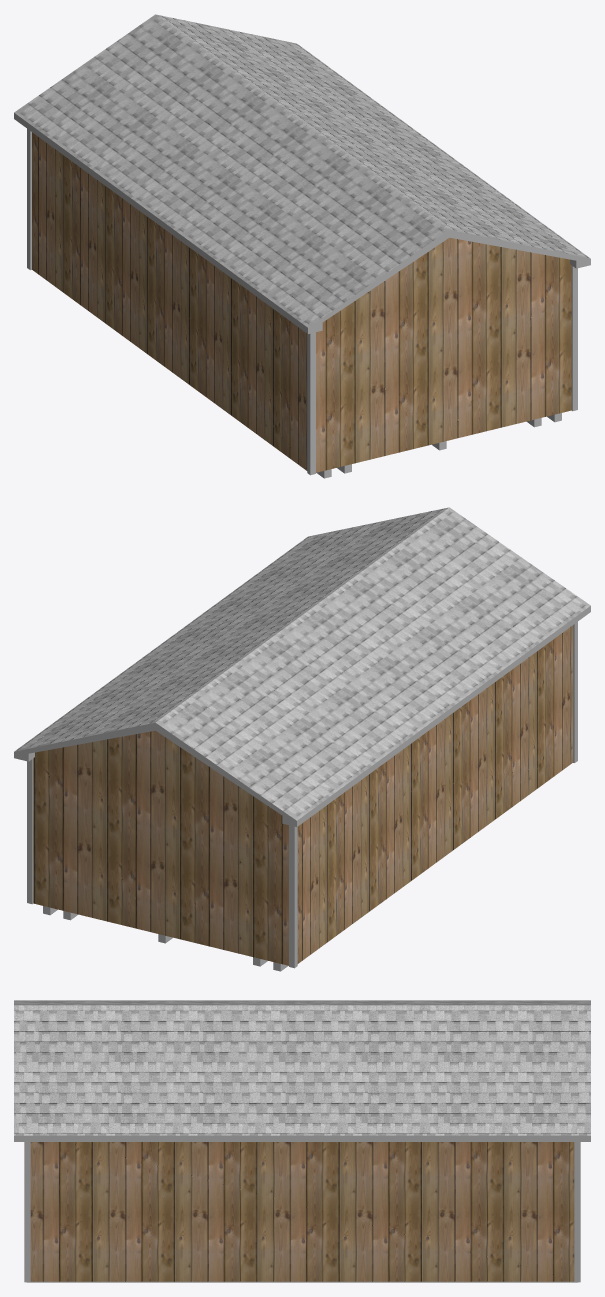
File: Classic A-Frame_12x22.obj
The picture shows the model from 3 angles, top to bottom: view 1: azimuth 30°, elevation 25°; view 2: azimuth 150°, elevation 25°; view 3: azimuth 270°, elevation 25°; orthographic projection.
Parts seen in each view (by area): view 1: Shed, Roof, Sides, Trim; view 2: Shed, Roof, Sides, Trim; view 3: Roof, Shed, Sides, Trim, Floor.
Boxes of the visible parts, <box> form: Shed: <box>32,132,571,472</box>; Roof: <box>14,14,590,327</box>; Sides: <box>14,113,590,333</box>; Trim: <box>27,129,577,475</box>; Shed: <box>33,625,572,965</box>; Roof: <box>14,507,590,820</box>; Sides: <box>14,606,590,826</box>; Trim: <box>27,622,577,968</box>; Roof: <box>14,1000,590,1135</box>; Shed: <box>30,1142,574,1281</box>; Sides: <box>14,1135,590,1141</box>; Trim: <box>24,1142,580,1282</box>; Floor: <box>27,1281,577,1282</box>.
Bounding box in the file's own units: 3.9 × 2.96 × 7.01.
